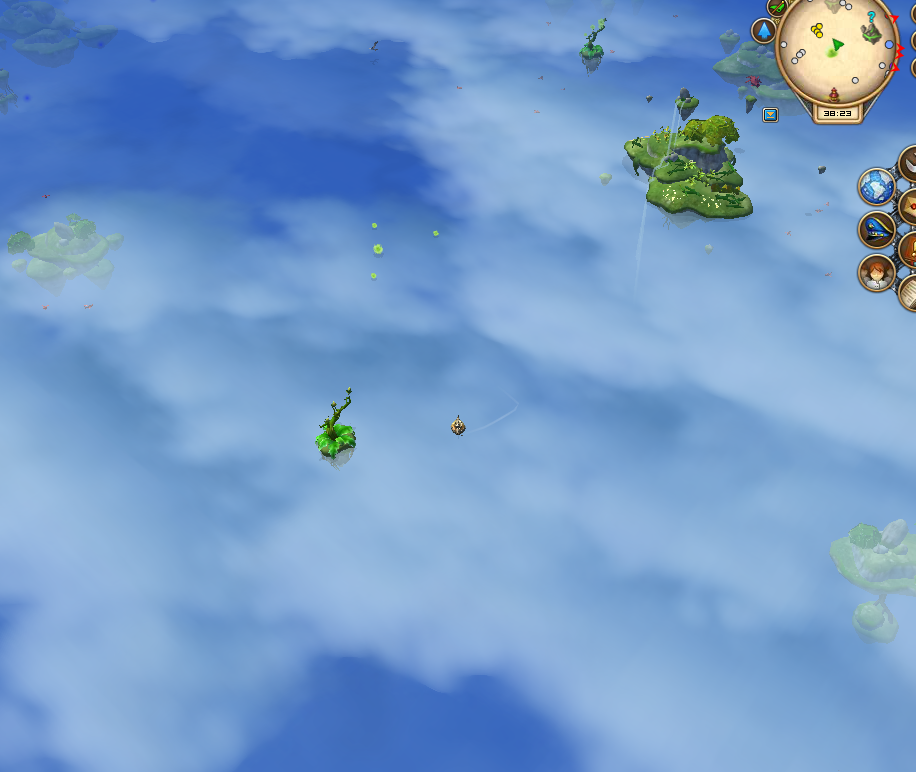dandelion-empty: (314, 384, 360, 470)
dandelion-full: (577, 14, 609, 76)
fluff: (370, 241, 386, 259), (368, 218, 381, 232), (430, 227, 442, 240), (368, 271, 379, 281)
